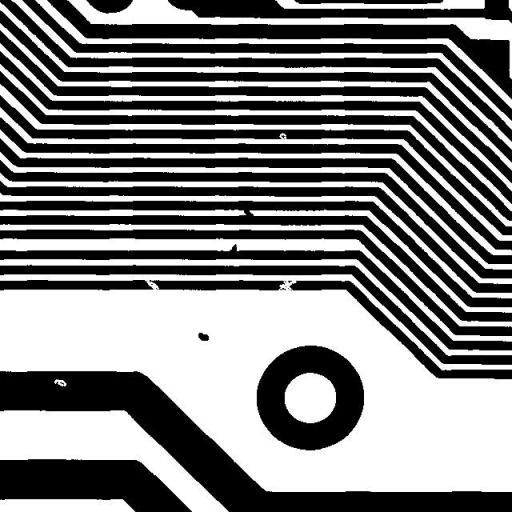copper: (190, 325, 216, 348)
mousebite: (271, 124, 295, 150)
open: (134, 269, 168, 300), (270, 272, 304, 299)
pin-hole: (46, 371, 74, 394)
short: (234, 195, 260, 225)
spur: (222, 236, 244, 261)
